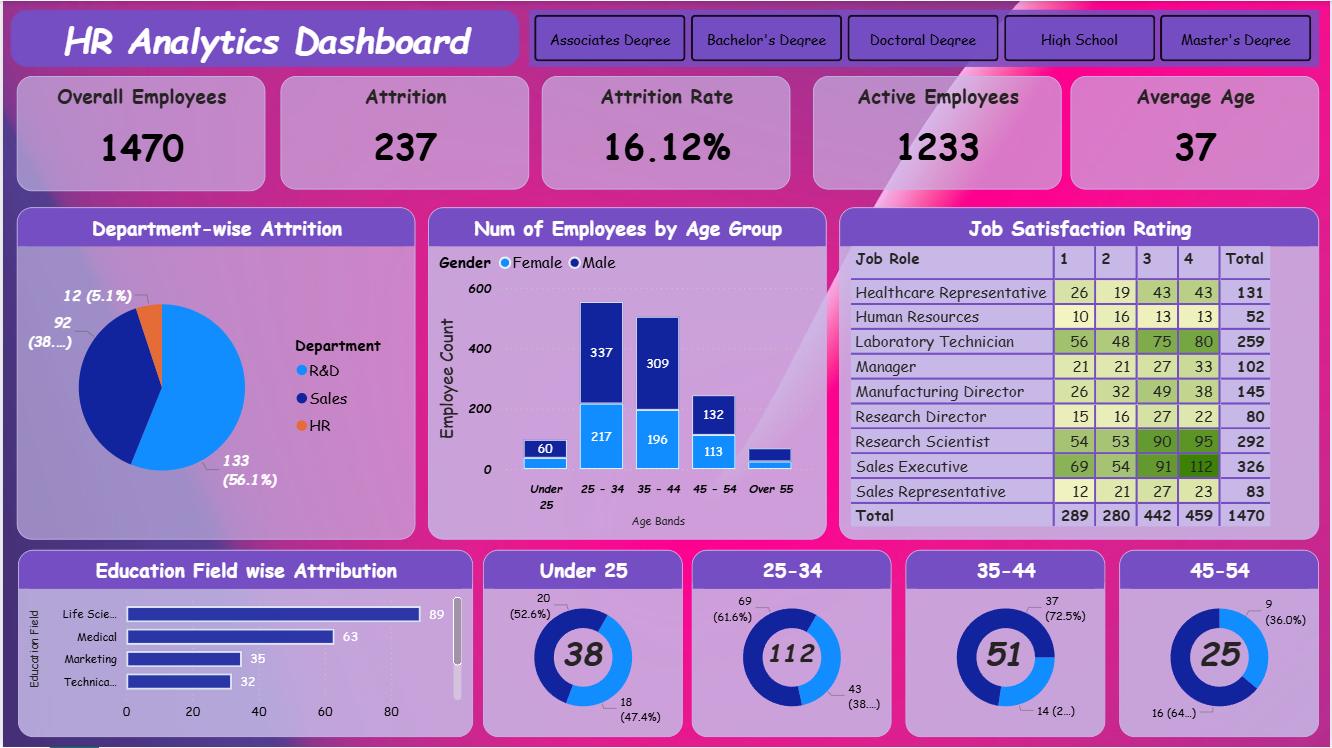

The page's visual inventory and layout, read from the dashboard file:
{"tool":"powerbi","page":{"name":"Page 1","canvas":[1280,720],"ordinal":0},"visuals":[{"type":"card","title":"Overall Employees","fields":{"Values":["Sum(HR data.Employee Count)"]},"box":[13.3,72.4,240.1,111],"z":0},{"type":"card","title":"Attrition","fields":{"Values":["Sum(HR data.Attrition Count)"]},"box":[267.8,72.4,240.1,109.8],"z":1000},{"type":"card","title":"Attrition Rate","fields":{"Values":["HR data.Attrition Rate"]},"box":[520,72.4,240.1,109.8],"z":2000},{"type":"card","title":"Active Employees","fields":{"Values":["HR data.Active Employees"]},"box":[781.8,72.4,240.1,109.8],"z":3000},{"type":"card","title":"Average Age","fields":{"Values":["Avg(HR data.Age)"]},"box":[1030.3,72.4,240.1,109.8],"z":4000},{"type":"pieChart","title":"Department-wise Attrition","fields":{"Y":["Sum(HR data.Attrition Count)"],"Category":["HR data.Department"]},"box":[13.3,199.1,384.9,320.9],"z":5000},{"type":"columnChart","title":"Num of Employees by Age Group","fields":{"Y":["Sum(HR data.Employee Count)"],"Category":["HR data.CF_age band"],"Series":["HR data.Gender"]},"box":[410.2,199.1,384.9,320.9],"z":6000},{"type":"pivotTable","title":"Job Satisfaction Rating","fields":{"Rows":["HR data.Job Role"],"Columns":["HR data.Job Satisfaction"],"Values":["Sum(HR data.Employee Count)"]},"box":[807.1,199.1,463.3,320.9],"z":7000},{"type":"barChart","title":"Education Field wise Attribution","fields":{"Category":["HR data.Education Field"],"Y":["Sum(HR data.Attrition Count)"]},"box":[14.5,529.6,439.1,181],"z":8000},{"type":"donutChart","title":"Under 25","fields":{"Y":["Sum(HR data.Attrition Count)"],"Category":["HR data.Gender"],"Series":["HR data.CF_age band"]},"box":[463.3,529.6,193,181],"z":9000},{"type":"donutChart","title":"25-34","fields":{"Y":["Sum(HR data.Attrition Count)"],"Category":["HR data.Gender"],"Series":["HR data.CF_age band"]},"box":[664.7,529.6,193,181],"z":10000},{"type":"donutChart","title":"35-44","fields":{"Y":["Sum(HR data.Attrition Count)"],"Category":["HR data.Gender"],"Series":["HR data.CF_age band"]},"box":[871.1,529.6,193,181],"z":11000},{"type":"donutChart","title":"45-54","fields":{"Y":["Sum(HR data.Attrition Count)"],"Category":["HR data.Gender"],"Series":["HR data.CF_age band"]},"box":[1077.4,529.6,193,181],"z":12000},{"type":"card","fields":{"Values":["Sum(HR data.Attrition Count)"]},"box":[528.4,589.9,61.5,79.6],"z":13000},{"type":"card","fields":{"Values":["Sum(HR data.Attrition Count)"]},"box":[729.9,589.9,61.5,79.6],"z":14000},{"type":"card","fields":{"Values":["Sum(HR data.Attrition Count)"]},"box":[936.2,589.9,62.7,79.6],"z":15000},{"type":"card","fields":{"Values":["Sum(HR data.Attrition Count)"]},"box":[1142.5,589.9,62.7,79.6],"z":16000},{"type":"textbox","title":"HR Analytics Dashboard","box":[7.2,8.4,491,55.5],"z":17000},{"type":"advancedSlicerVisual","fields":{"Values":["HR data.Education"]},"box":[507.9,8.4,762.5,55.5],"z":17001}]}

Visuals, with their boxes in screenshot pixels (x1, y1, x2, y2), scaled from the page's 1280x720 canvas onto the 1332x748 screenshot:
"Overall Employees" card: (x1=14, y1=75, x2=264, y2=191)
"Attrition" card: (x1=279, y1=75, x2=529, y2=189)
"Attrition Rate" card: (x1=541, y1=75, x2=791, y2=189)
"Active Employees" card: (x1=814, y1=75, x2=1063, y2=189)
"Average Age" card: (x1=1072, y1=75, x2=1322, y2=189)
"Department-wise Attrition" pieChart: (x1=14, y1=207, x2=414, y2=540)
"Num of Employees by Age Group" columnChart: (x1=427, y1=207, x2=827, y2=540)
"Job Satisfaction Rating" pivotTable: (x1=840, y1=207, x2=1322, y2=540)
"Education Field wise Attribution" barChart: (x1=15, y1=550, x2=472, y2=738)
"Under 25" donutChart: (x1=482, y1=550, x2=683, y2=738)
"25-34" donutChart: (x1=692, y1=550, x2=893, y2=738)
"35-44" donutChart: (x1=906, y1=550, x2=1107, y2=738)
"45-54" donutChart: (x1=1121, y1=550, x2=1322, y2=738)
card - Sum(HR data.Attrition Count): (x1=550, y1=613, x2=614, y2=696)
card - Sum(HR data.Attrition Count): (x1=760, y1=613, x2=824, y2=696)
card - Sum(HR data.Attrition Count): (x1=974, y1=613, x2=1039, y2=696)
card - Sum(HR data.Attrition Count): (x1=1189, y1=613, x2=1254, y2=696)
"HR Analytics Dashboard" textbox: (x1=7, y1=9, x2=518, y2=66)
advancedSlicerVisual - HR data.Education: (x1=529, y1=9, x2=1322, y2=66)
